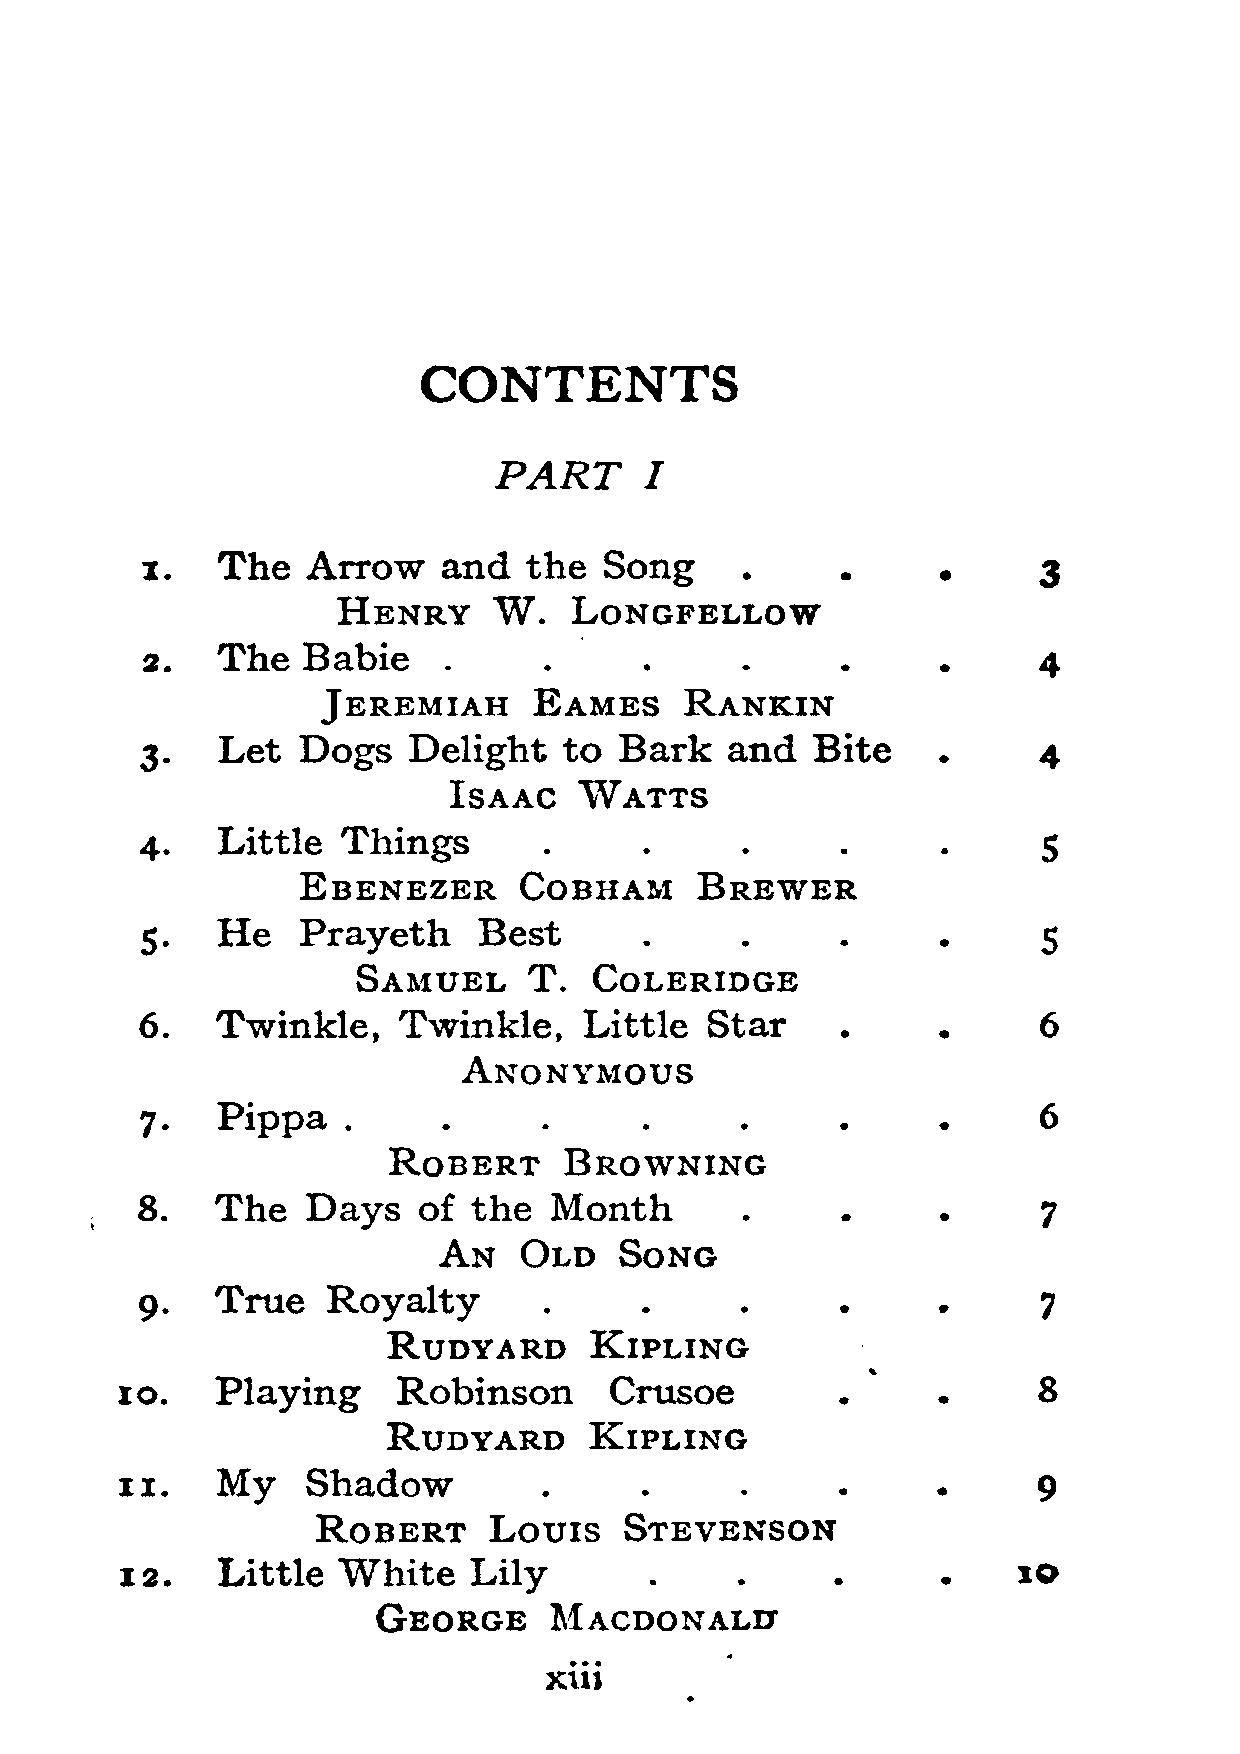TOC_chapter: (136, 727, 892, 813), (137, 636, 843, 722), (133, 544, 841, 628), (114, 1465, 837, 1547), (132, 820, 860, 900), (115, 1551, 784, 1639), (129, 914, 803, 998), (132, 1004, 790, 1088), (136, 1278, 756, 1363), (137, 1096, 772, 1180), (136, 1184, 721, 1270), (111, 1376, 756, 1453), (487, 452, 662, 493)
TOC_pagenumber: (1012, 1558, 1062, 1594), (1036, 918, 1068, 964), (1033, 549, 1066, 593), (1037, 1007, 1066, 1053), (1028, 1465, 1063, 1502), (1037, 829, 1066, 872), (1028, 652, 1063, 683), (1036, 734, 1063, 773), (1032, 1286, 1057, 1325), (1032, 1099, 1063, 1130), (1035, 1368, 1057, 1406), (1033, 1192, 1057, 1227)
chapter: (413, 360, 743, 407)
